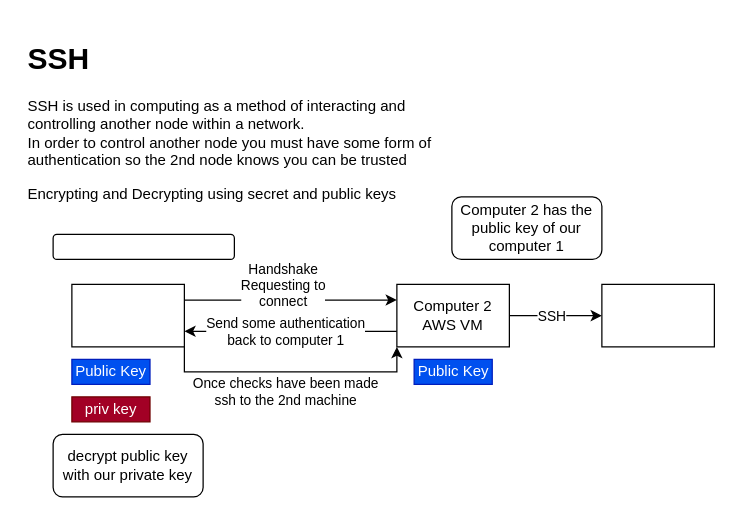
The diagram is 736 pixels wide and 519 high, and some of its shapes have lost their labels. The shapes that lost their labels are listed below. From the top down, each one's box as (x1, y1, x2, y2) in pixels, then its label:
(52, 233, 234, 259): SSH Connect from 1 to 2
(71, 283, 184, 347): Computer 1 Home PC
(601, 283, 714, 347): Computer 3 AWS VM
